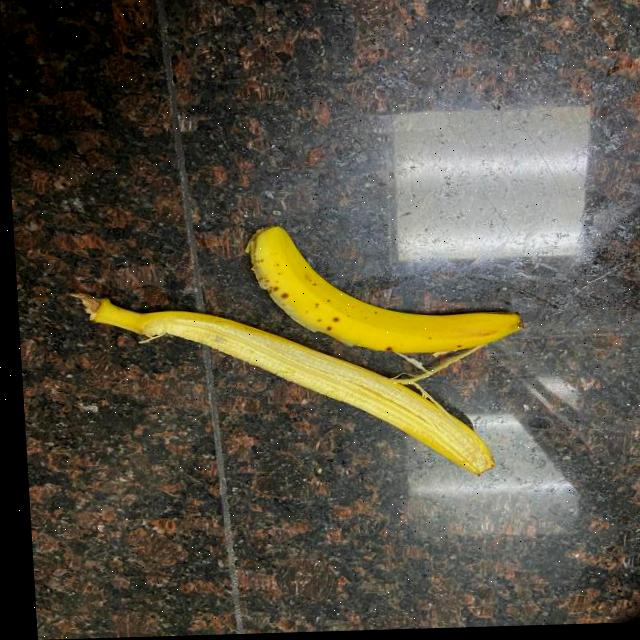banana: (82, 247, 525, 483)
